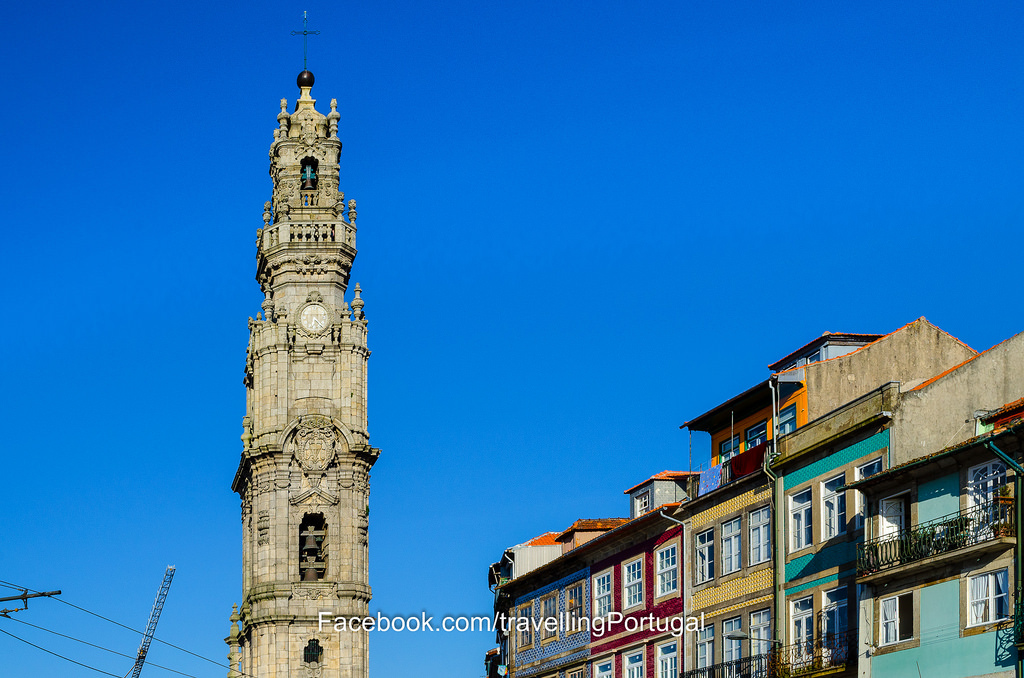clerigos: (219, 7, 383, 677)
